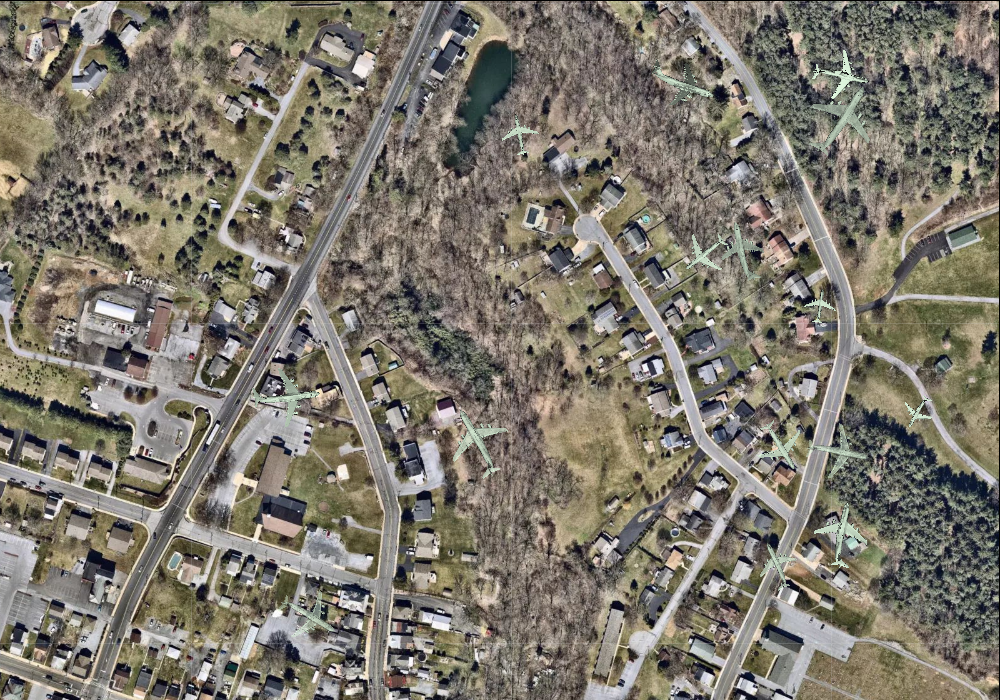plane: (788, 65, 894, 172), (428, 394, 524, 491), (265, 575, 350, 658), (641, 42, 724, 119), (806, 496, 880, 574), (248, 359, 323, 432), (800, 416, 875, 488), (745, 410, 815, 482), (807, 42, 875, 108), (712, 216, 776, 286), (671, 220, 738, 286), (745, 534, 807, 598), (895, 388, 942, 436), (496, 110, 542, 158), (801, 286, 838, 325)
